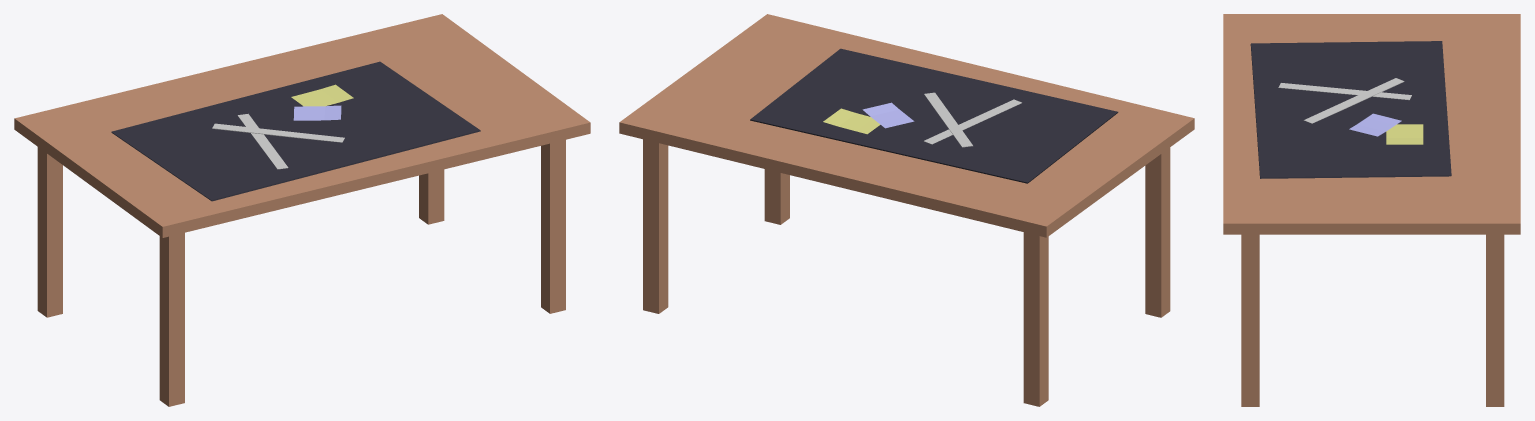
Rendered from Table.fbx.
3 renders of one model, left to right at view 1: azimuth 30°, elevation 25°; view 2: azimuth 150°, elevation 25°; view 3: azimuth 270°, elevation 25°, orthographic.
Parts seen in each view (by area): view 1: Table, Underlay, Note1.001, Ruler2, Note2.001, Ruler1; view 2: Table, Underlay, Note1.001, Note2.001, Ruler2, Ruler1; view 3: Table, Underlay, Ruler2, Note1.001, Ruler1, Note2.001.
Part boxes in pixels (bbox=[...]): Table: bbox=[14, 14, 590, 406]; Underlay: bbox=[111, 61, 480, 201]; Note1.001: bbox=[291, 84, 353, 106]; Ruler2: bbox=[212, 123, 344, 142]; Note2.001: bbox=[293, 105, 341, 120]; Ruler1: bbox=[237, 113, 288, 169]; Table: bbox=[619, 14, 1194, 406]; Underlay: bbox=[750, 48, 1118, 183]; Note1.001: bbox=[823, 108, 880, 134]; Note2.001: bbox=[862, 102, 914, 128]; Ruler2: bbox=[924, 92, 972, 147]; Ruler1: bbox=[923, 99, 1021, 144]; Table: bbox=[1223, 14, 1520, 406]; Underlay: bbox=[1250, 41, 1451, 178]; Ruler2: bbox=[1304, 78, 1404, 123]; Note1.001: bbox=[1386, 124, 1423, 144]; Ruler1: bbox=[1278, 83, 1411, 100]; Note2.001: bbox=[1349, 113, 1401, 136].
Size of the model in its own units: 1.5 by 0.6468 by 0.9.
